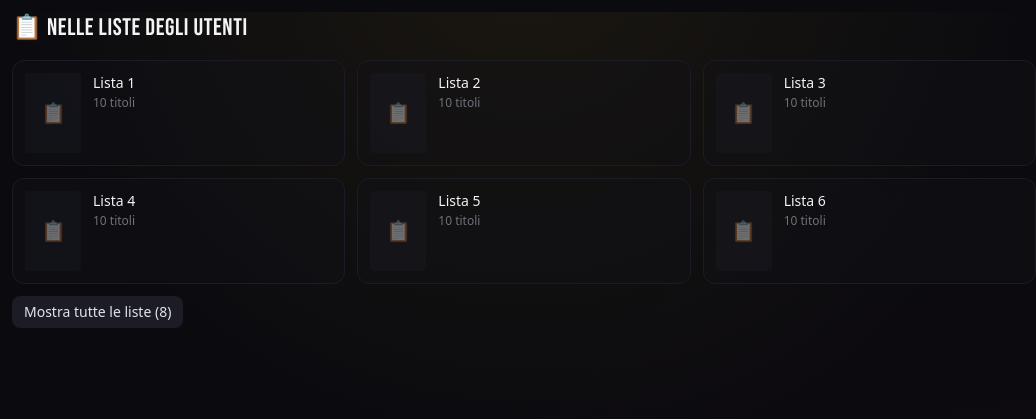
Scenario: ListeUtenti › ne mostra sei, e le altre a richiesta
Expected: the text "Lista 1" is shown, [93,73,135,93]
Expected: the text "Lista 7" is not shown
What coordinates should you click on to do the following:
click the button "Mostra tutte le liste (8)"
I would click on:
 (98, 312)
Its box is [12,296,183,328].
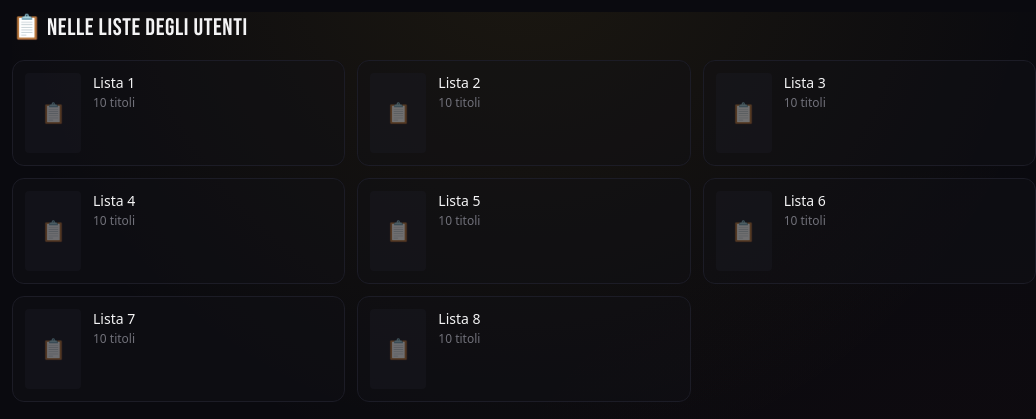
Expected: the text "Lista 8" is shown, [438,309,480,329]
